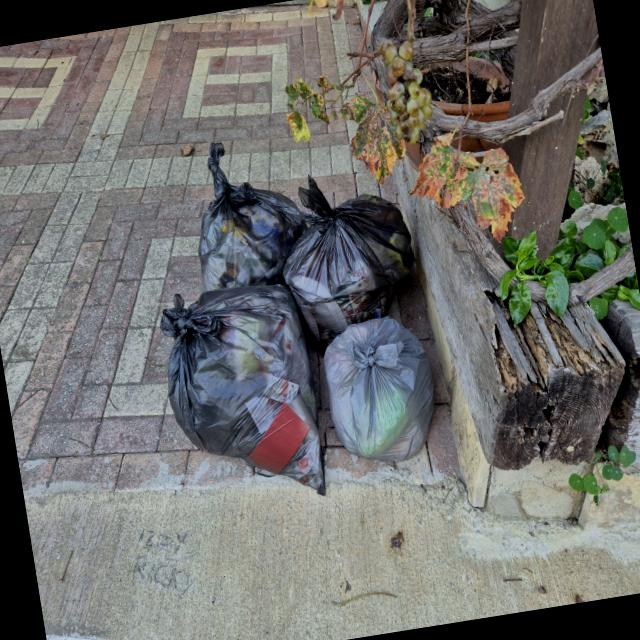black_bag: (148, 266, 336, 523), (276, 150, 454, 347), (313, 311, 468, 504), (175, 124, 305, 298)
